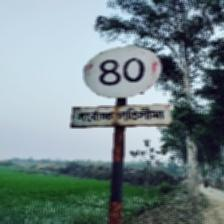Speed-limit: (71, 43, 170, 129)
